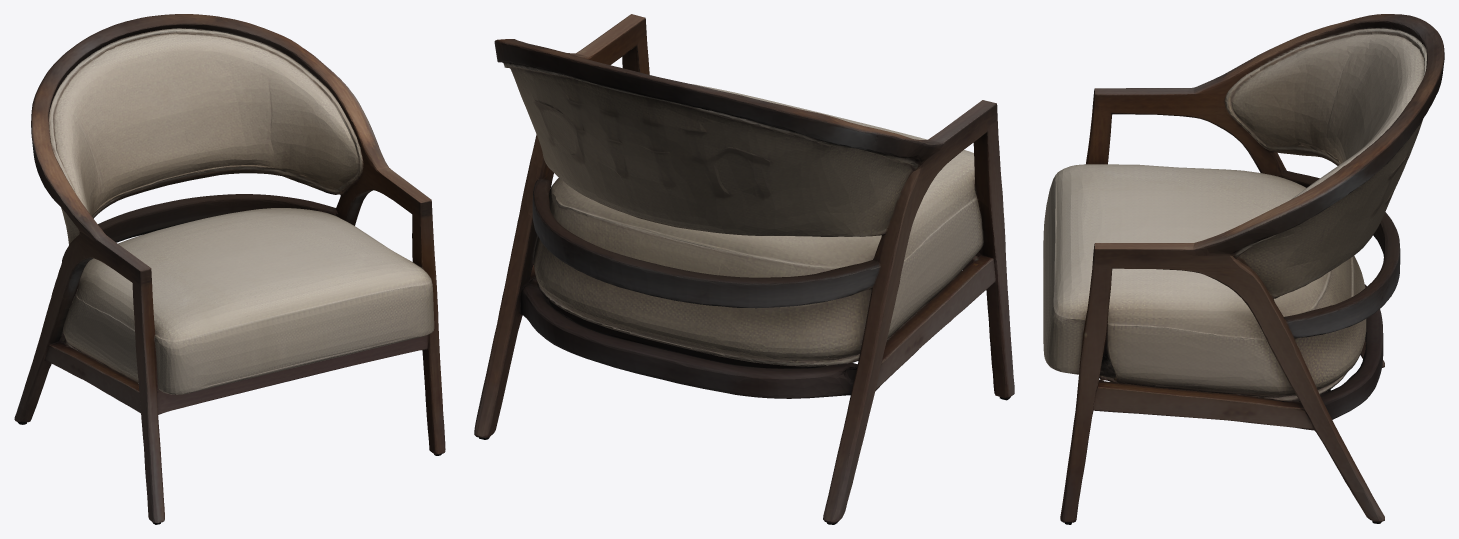
The model's file is SILLON LEONI.glb.
The picture shows the model from 3 angles, left to right: view 1: azimuth 30°, elevation 25°; view 2: azimuth 150°, elevation 25°; view 3: azimuth 270°, elevation 25°; orthographic projection. The views are drawn at different scales.
Visible parts, largest first — view 1: world; view 2: world; view 3: world.
Part boxes in pixels (box(x1,y1,x2,y2)): world: box(14, 14, 445, 524); world: box(474, 14, 1014, 524); world: box(1043, 14, 1444, 524).
Size of the model in its own units: 0.9367 by 1 by 0.9228.
1 material, 1 textured.
